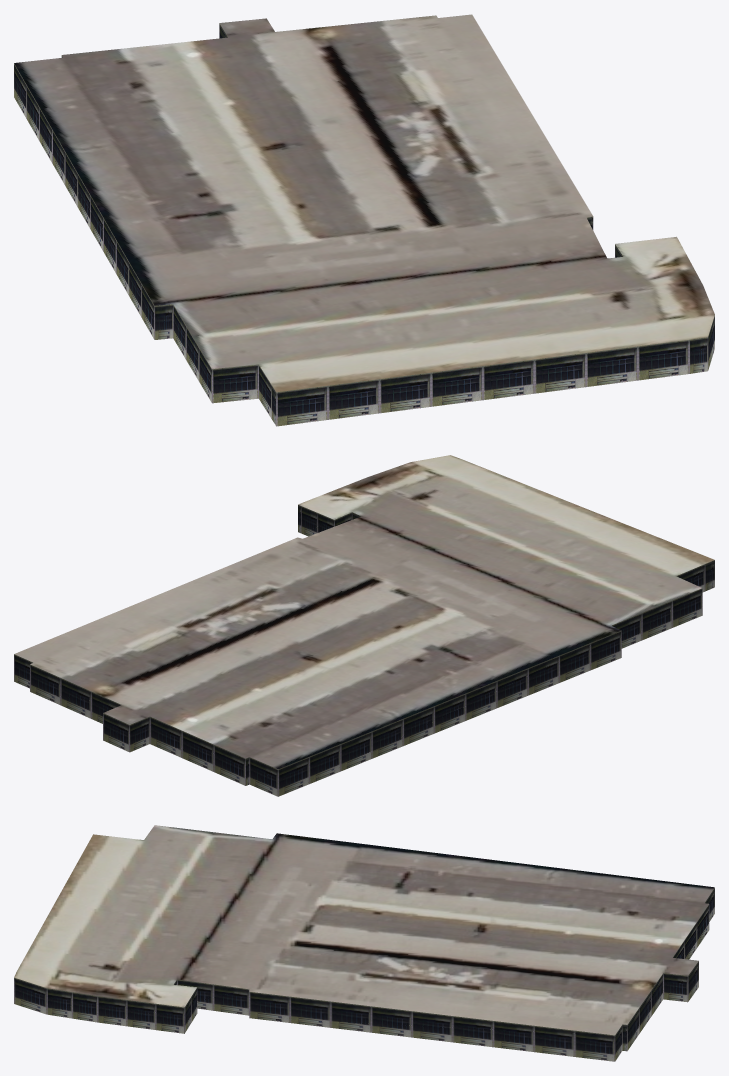
3 renders of one model, top to bottom at view 1: azimuth 30°, elevation 25°; view 2: azimuth 150°, elevation 25°; view 3: azimuth 270°, elevation 25°, orthographic. The views are drawn at different scales.
Parts seen in each view (by area): view 1: SketchUp (×7); view 2: SketchUp (×9); view 3: SketchUp (×9).
Boxes of the visible parts, x1,y1,x2,y2 form: SketchUp (×7): (14, 14, 714, 426); SketchUp (×9): (14, 455, 714, 796); SketchUp (×9): (14, 825, 714, 1061).
Bounding box in the file's own units: 66.61 × 93.85 × 3.9.
Materials: 2 (2 with a texture image).
